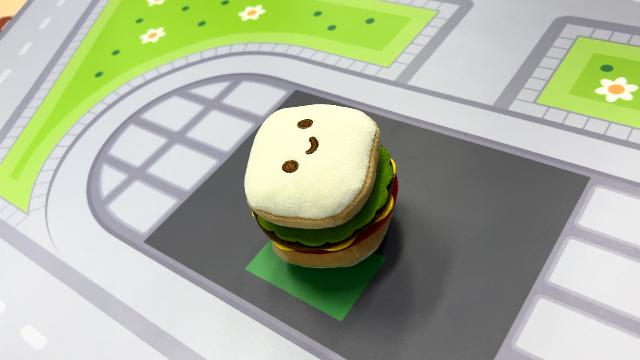sandwich: (242, 101, 400, 269)
